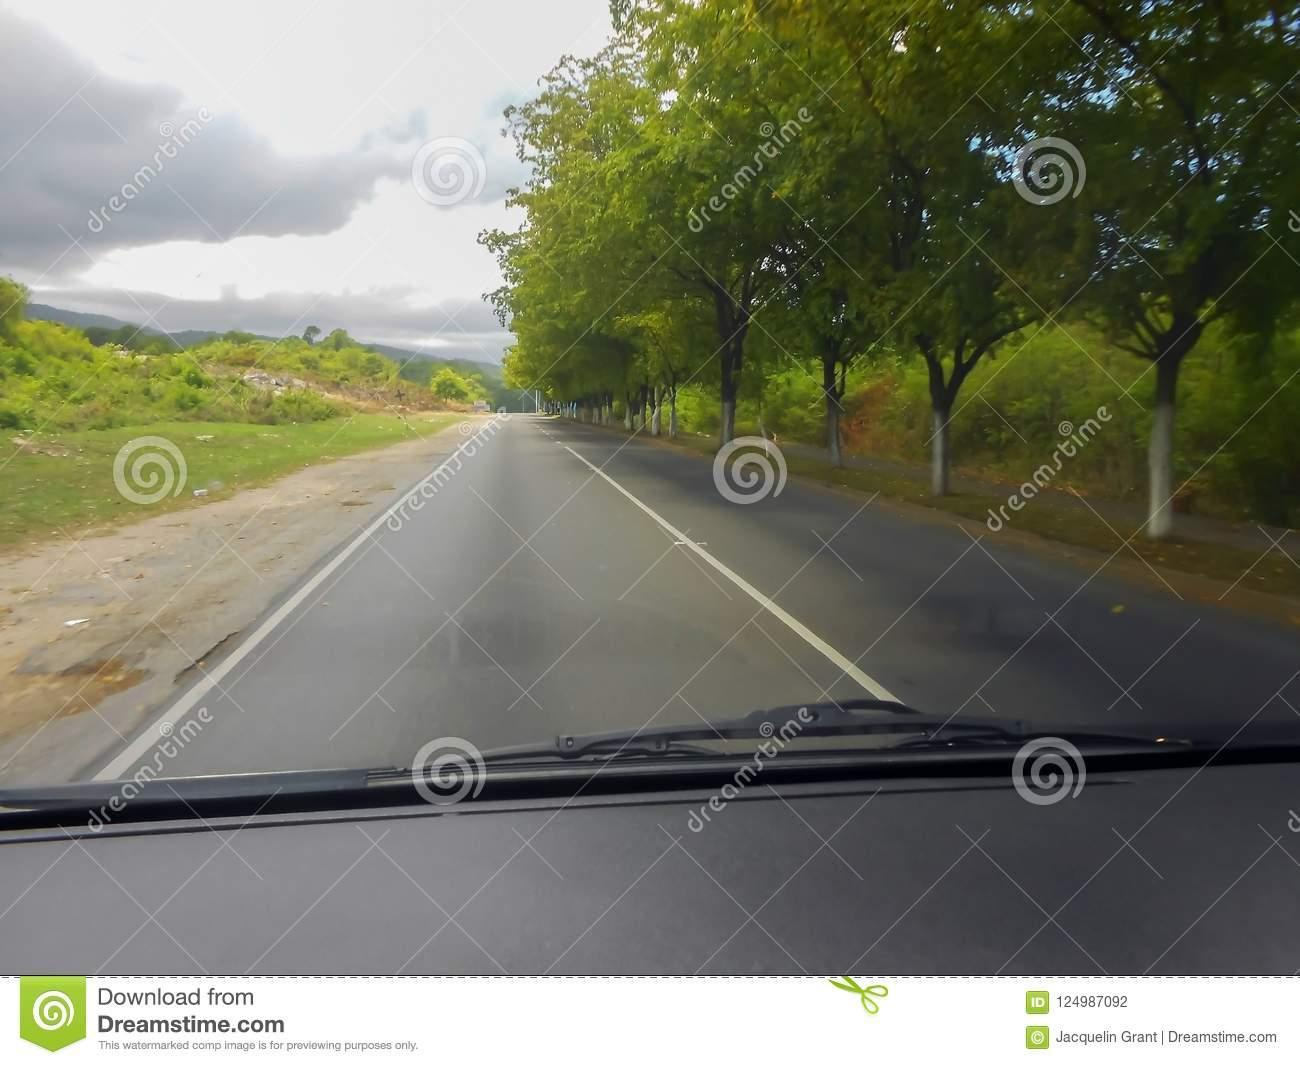language: (12, 983, 428, 1060), (1013, 985, 1282, 1052)
watersign: (675, 689, 821, 854), (978, 394, 1118, 544), (89, 98, 228, 241), (80, 704, 211, 839), (683, 108, 815, 238), (378, 415, 513, 537), (700, 430, 797, 516), (1005, 730, 1092, 815), (392, 137, 490, 210), (107, 434, 195, 514), (407, 731, 487, 817), (1010, 130, 1088, 211)
